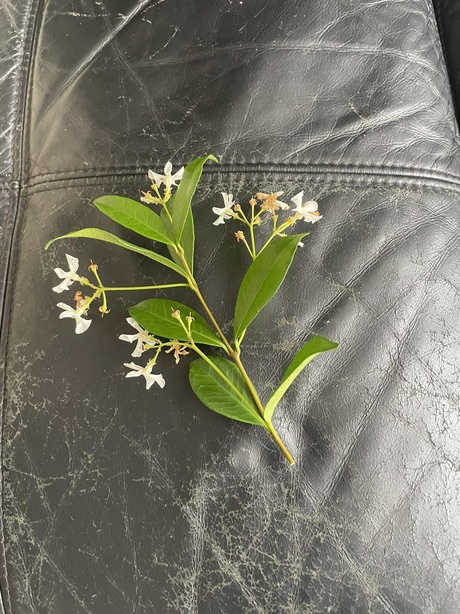leaf: (238, 222, 311, 347), (185, 351, 263, 432), (126, 295, 226, 355), (89, 185, 179, 251)
